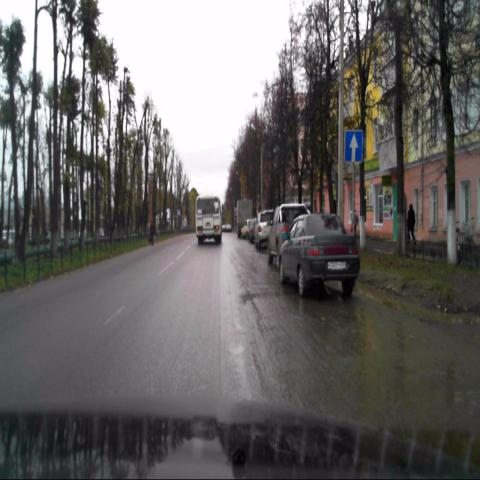5_5: (344, 131, 362, 162)
